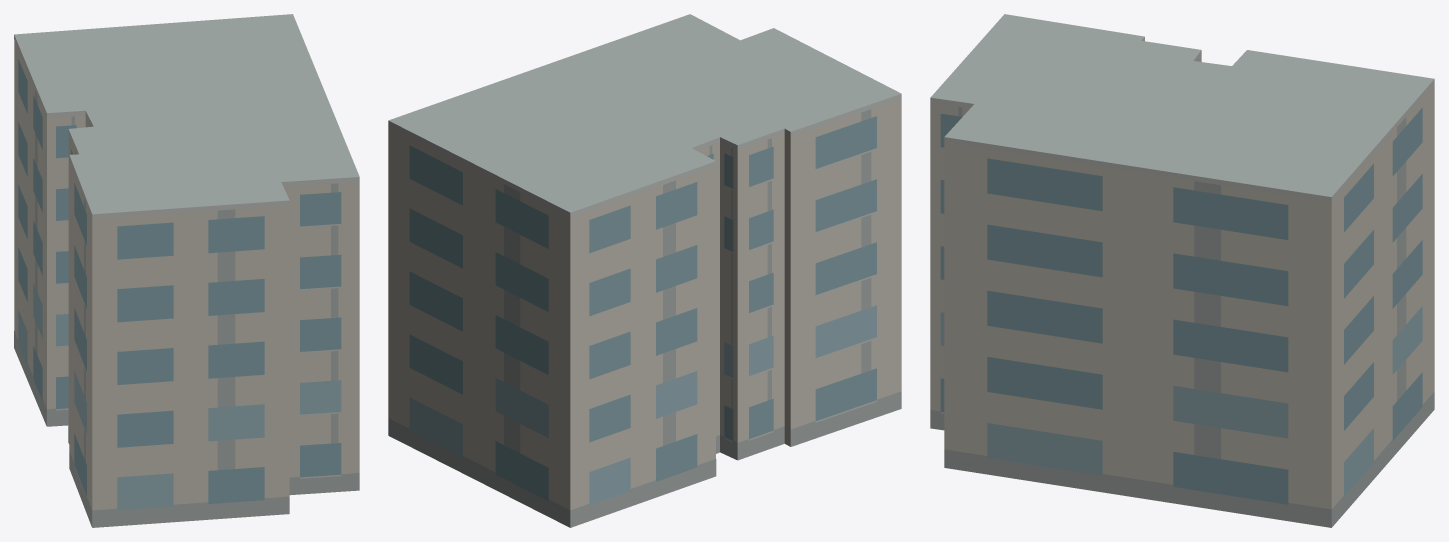
The model's file is survey-upis-32707055.glb.
3 renders of one model, left to right at view 1: azimuth 30°, elevation 25°; view 2: azimuth 150°, elevation 25°; view 3: azimuth 270°, elevation 25°, orthographic. The views are drawn at different scales.
Parts seen in each view (by area): view 1: survey-upis-32707055.tmp; view 2: survey-upis-32707055.tmp; view 3: survey-upis-32707055.tmp.
Boxes of the visible parts, x1,y1,x2,y2 form: survey-upis-32707055.tmp: (14,14,359,527); survey-upis-32707055.tmp: (388,14,901,527); survey-upis-32707055.tmp: (930,14,1434,527).
Bounding box in the file's own units: 18.12 × 15.25 × 21.08.
